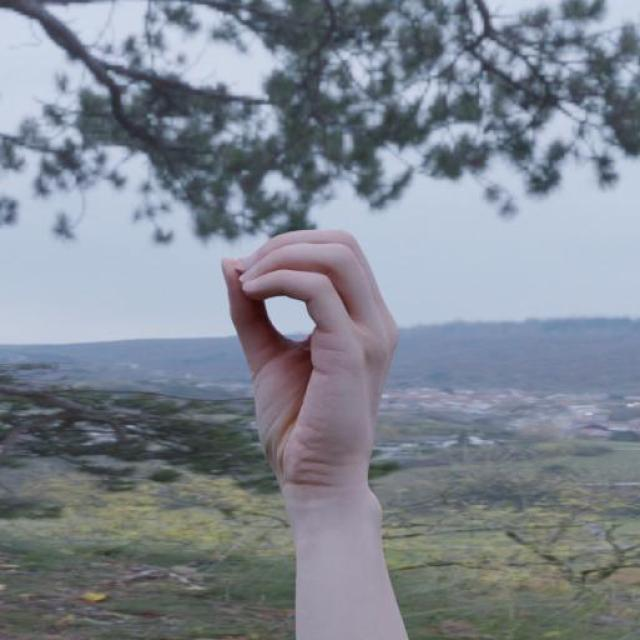O: (213, 220, 400, 492)
